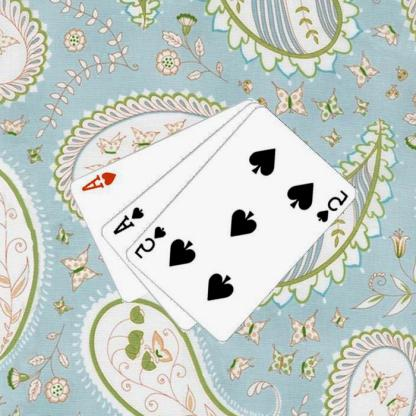5S: (133, 223, 169, 260), (315, 187, 351, 224)
AH: (80, 168, 120, 192)
AS: (112, 204, 147, 236)
